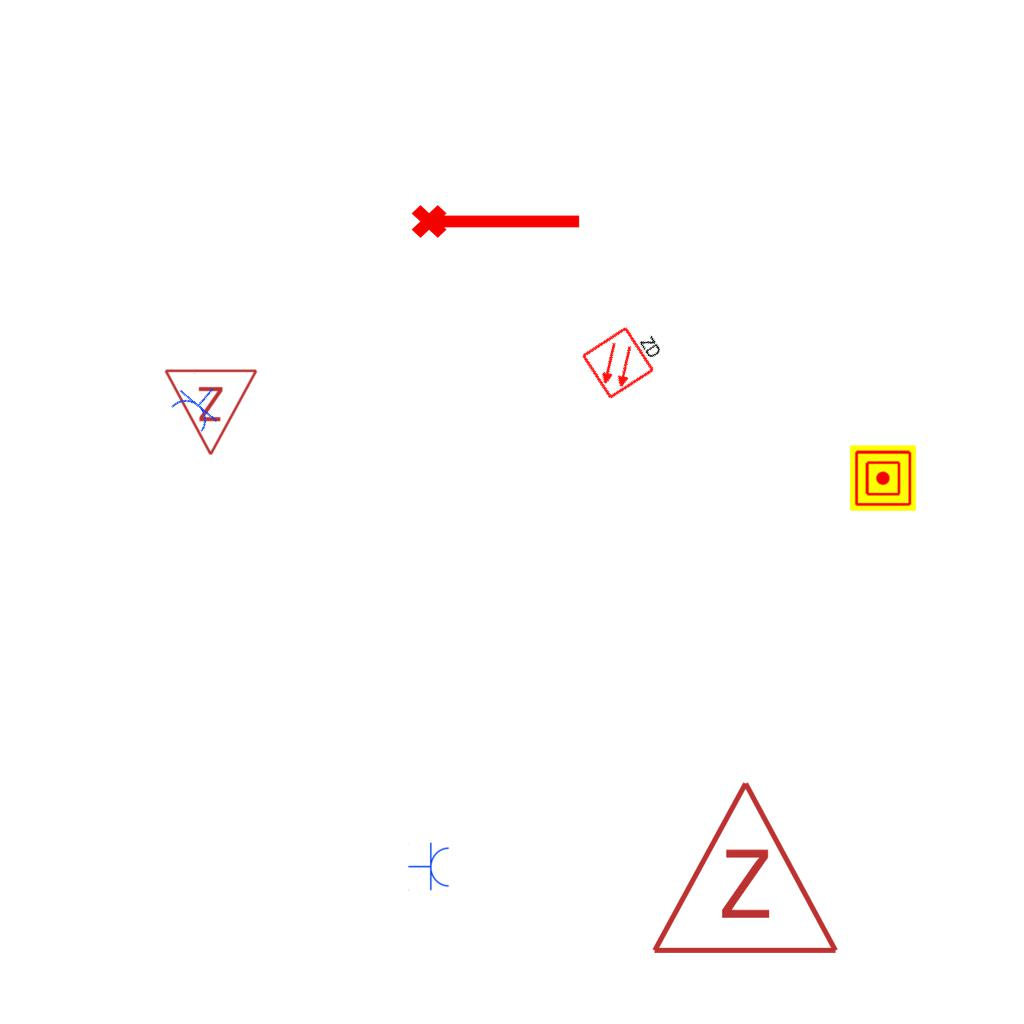ASR_Ansaugoeffnung: (409, 196, 585, 242)
NAM-Nichtautomatischer_Melder: (850, 445, 916, 511)
Schukosteckdose_einfach: (166, 371, 232, 438), (408, 842, 451, 892)
ZD_Melder_in_Zwischendecke_mit_Revisionsoeffnung_mind_40_x_40_cm: (578, 312, 673, 402)
Zimmersignalleuchte: (645, 768, 841, 968), (163, 362, 261, 462)
